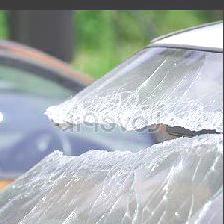glass_shatter: (42, 70, 218, 218)
